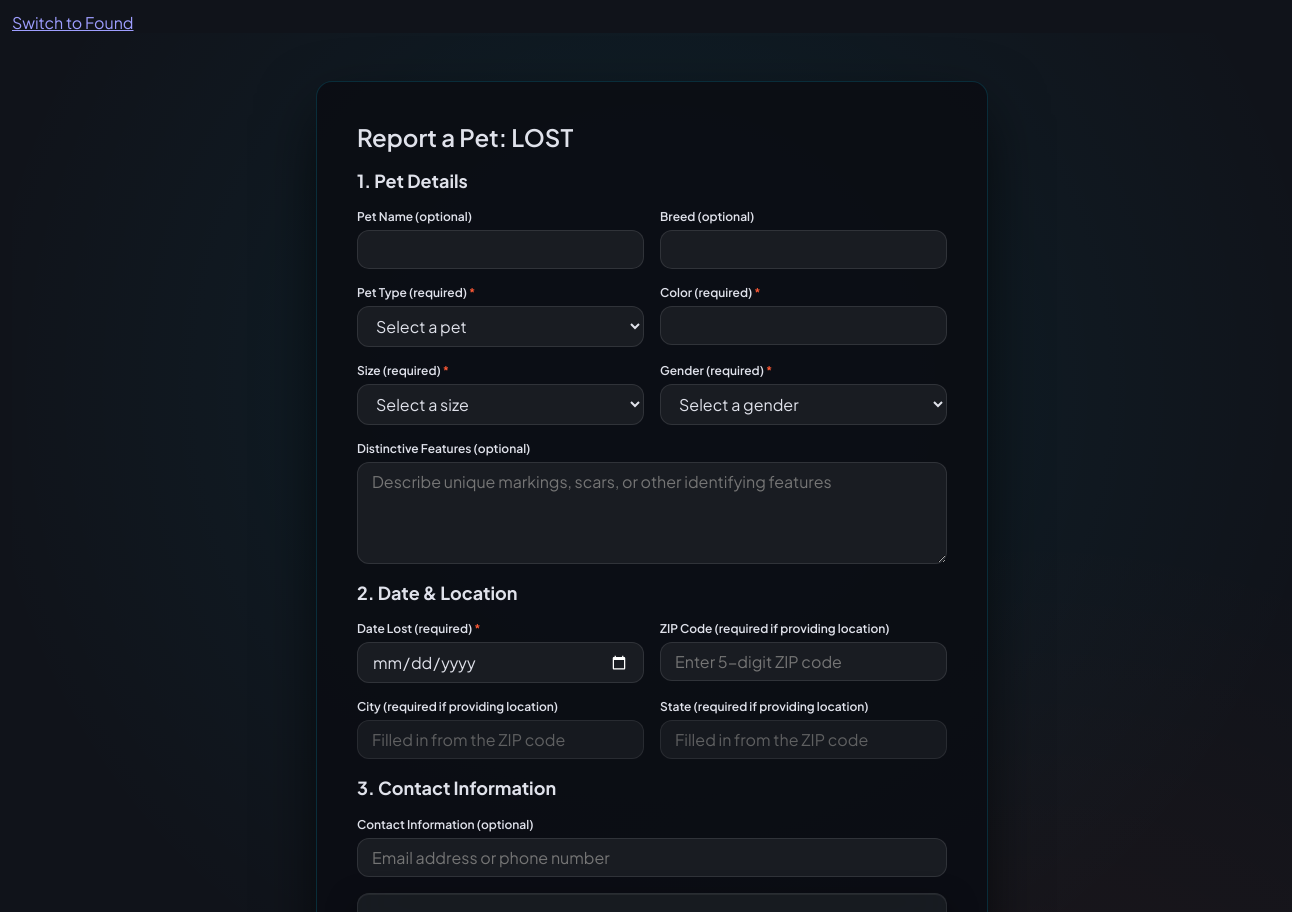
Test: ReportPetPage › 1. resets the form when switching from LOST to FOUND
Type "Buddy" into the field labelled "Pet Name (optional)" at coordinates (500, 250), box x1=357 y1=230 x2=644 y2=269
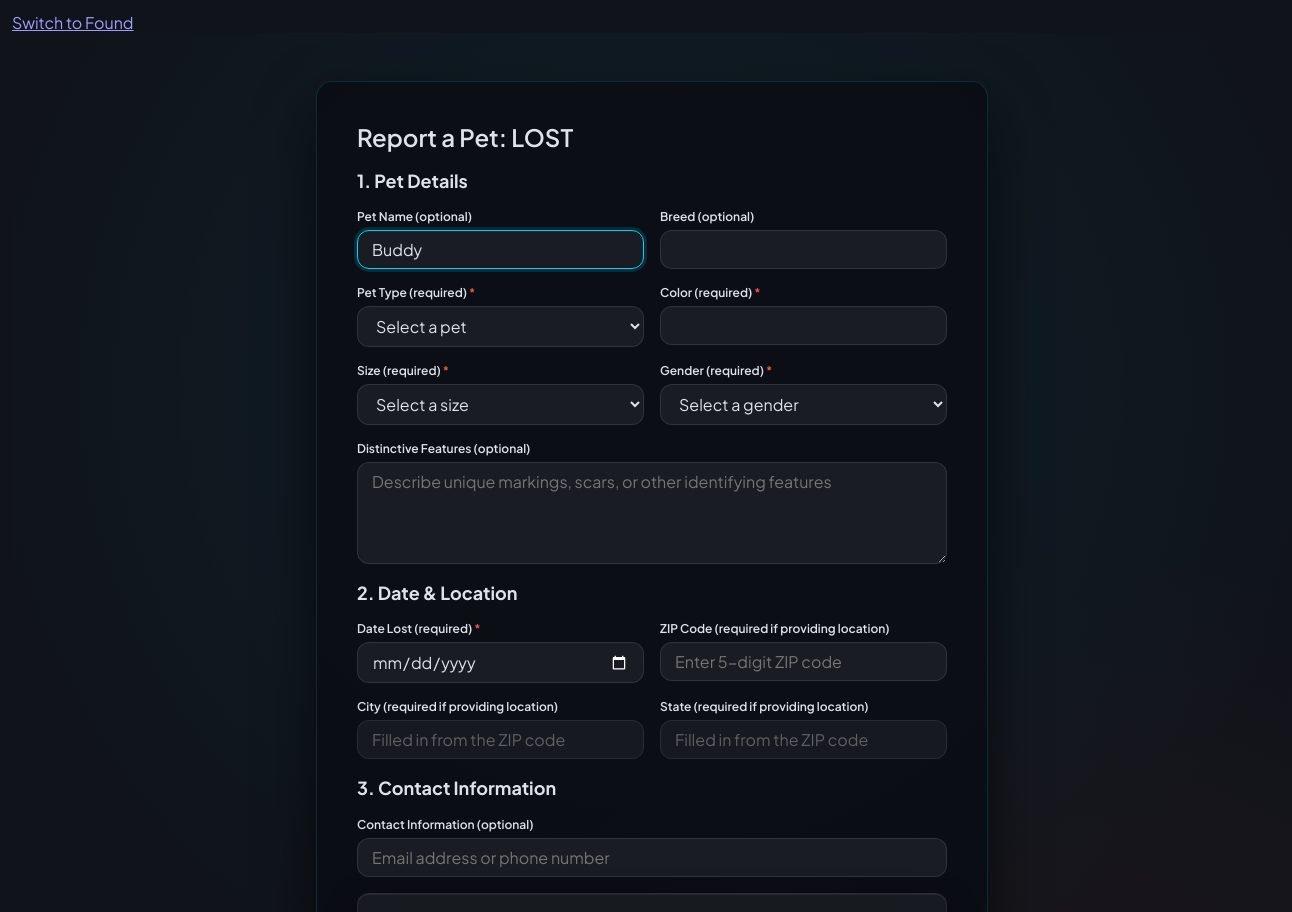
Click the link "Switch to Found" at coordinates (73, 22), box x1=12 y1=12 x2=134 y2=33
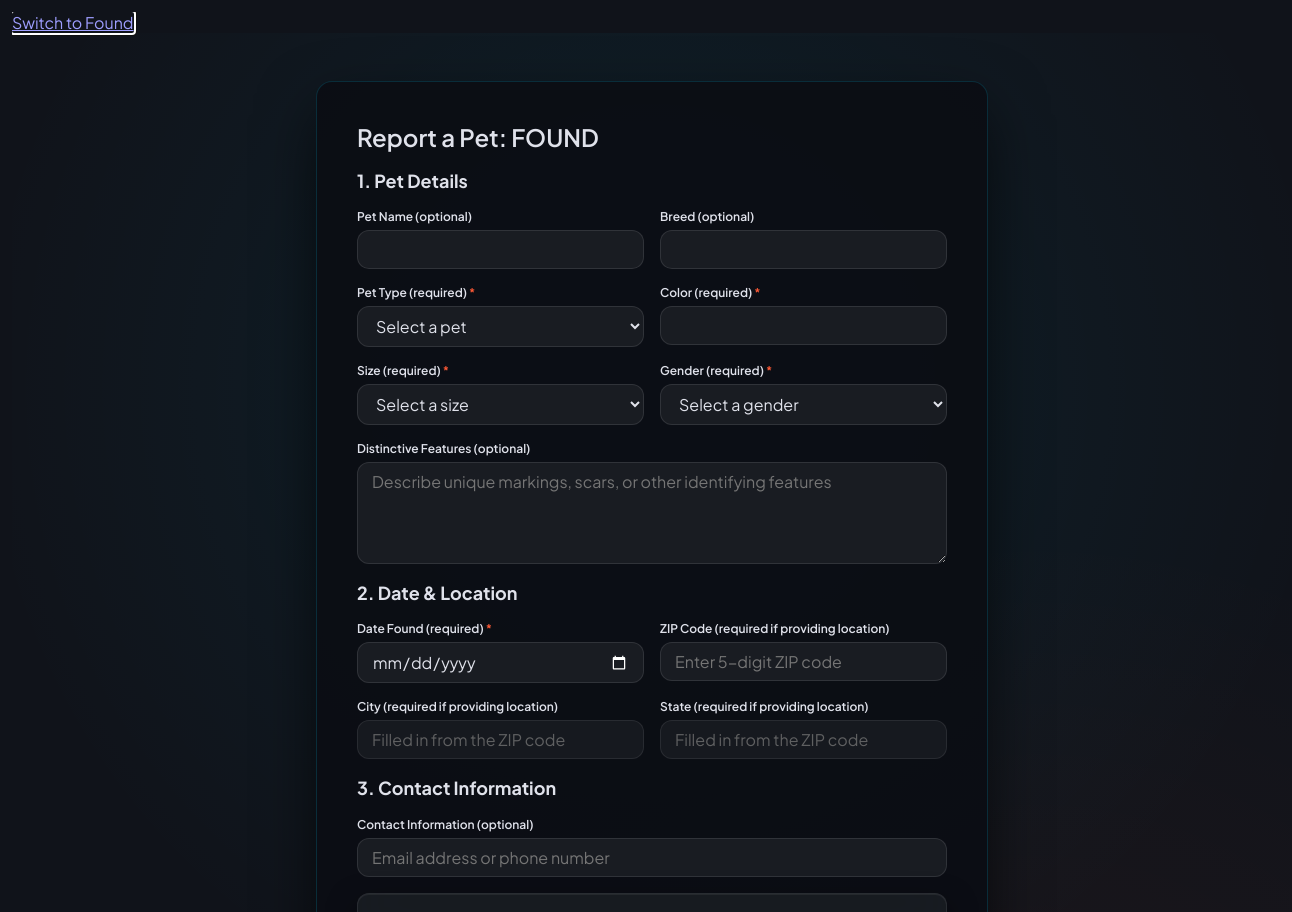
Expected: the heading "Report a Pet: FOUND" is shown, x1=357 y1=122 x2=599 y2=152
Expected: the field labelled "Pet Name (optional)" is empty, x1=357 y1=230 x2=644 y2=269
